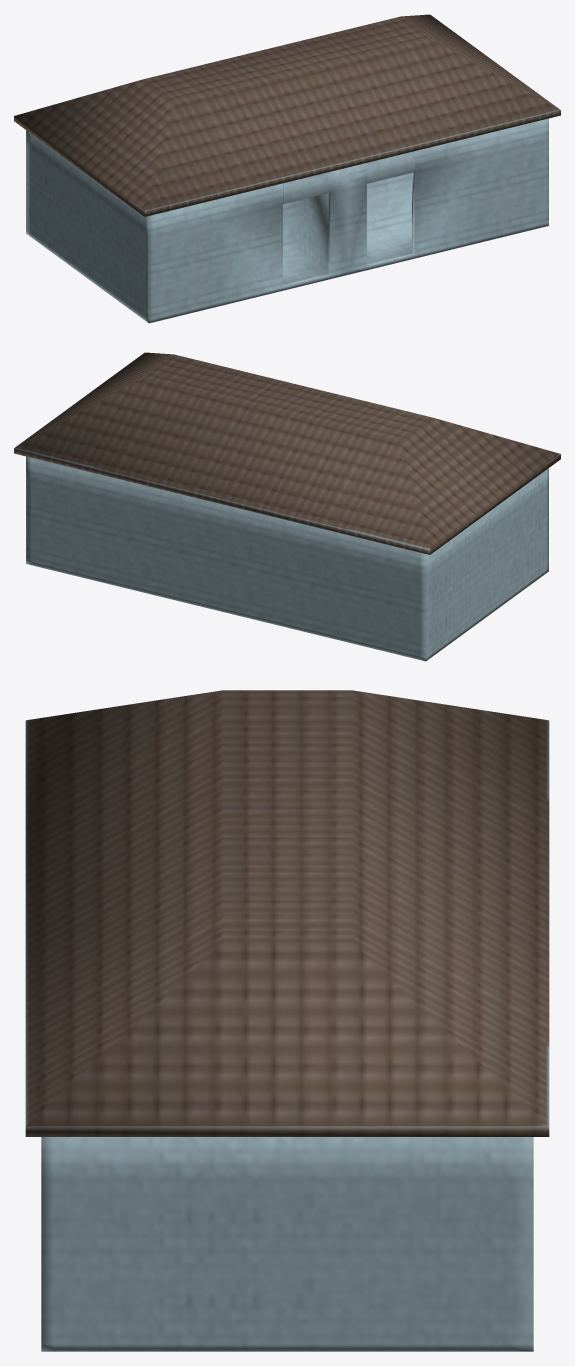
Rendered from Bathroom.fbx.
3 views of the same model, one above another, from view 1: azimuth 30°, elevation 25°; view 2: azimuth 150°, elevation 25°; view 3: azimuth 270°, elevation 25° (orthographic). The views are drawn at different scales.
Visible parts, largest first — view 1: Cube; view 2: Cube; view 3: Cube.
Part boxes in pixels (x1=…): Cube: x1=14, y1=14, x2=560, y2=323; Cube: x1=14, y1=352, x2=560, y2=661; Cube: x1=25, y1=690, x2=549, y2=1351.
Bounding box in the file's own units: 16.34 × 6.37 × 8.9.
